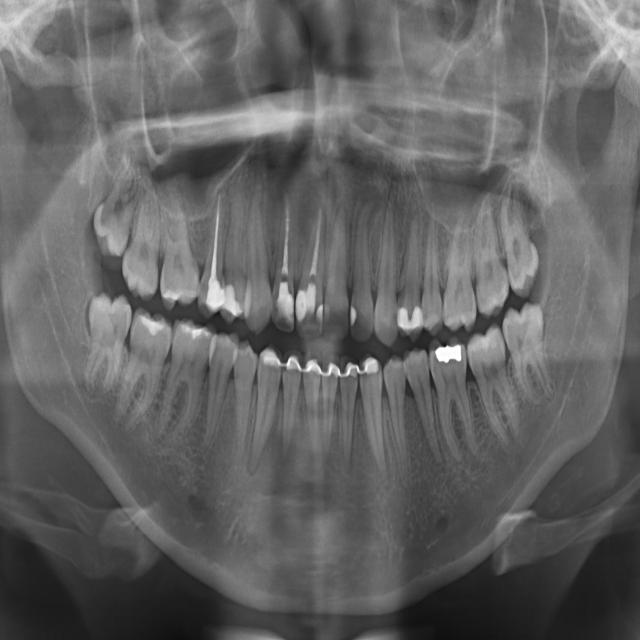CompositeResinRestoration: (395, 296, 425, 336), (295, 288, 321, 331), (271, 286, 294, 332), (178, 315, 212, 345), (136, 308, 168, 339), (219, 286, 242, 322), (203, 280, 220, 314), (346, 300, 359, 332)
RootCanalTreatment: (277, 186, 296, 287), (207, 190, 226, 281), (309, 192, 323, 286)
